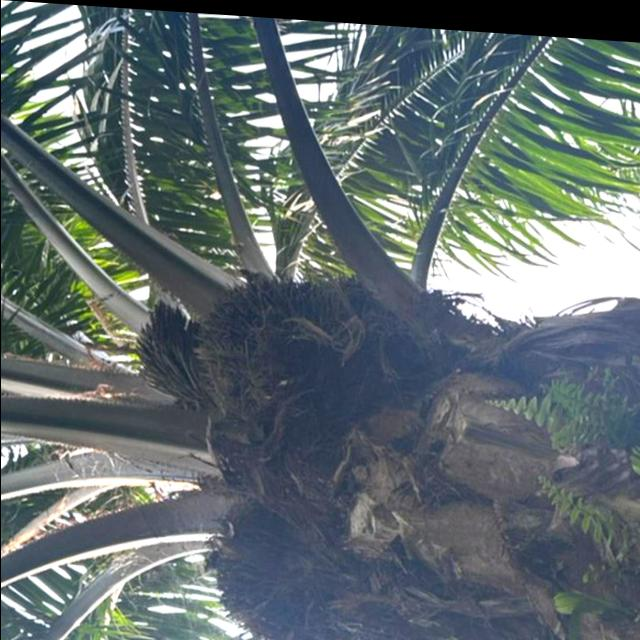almost: (188, 260, 384, 435)
